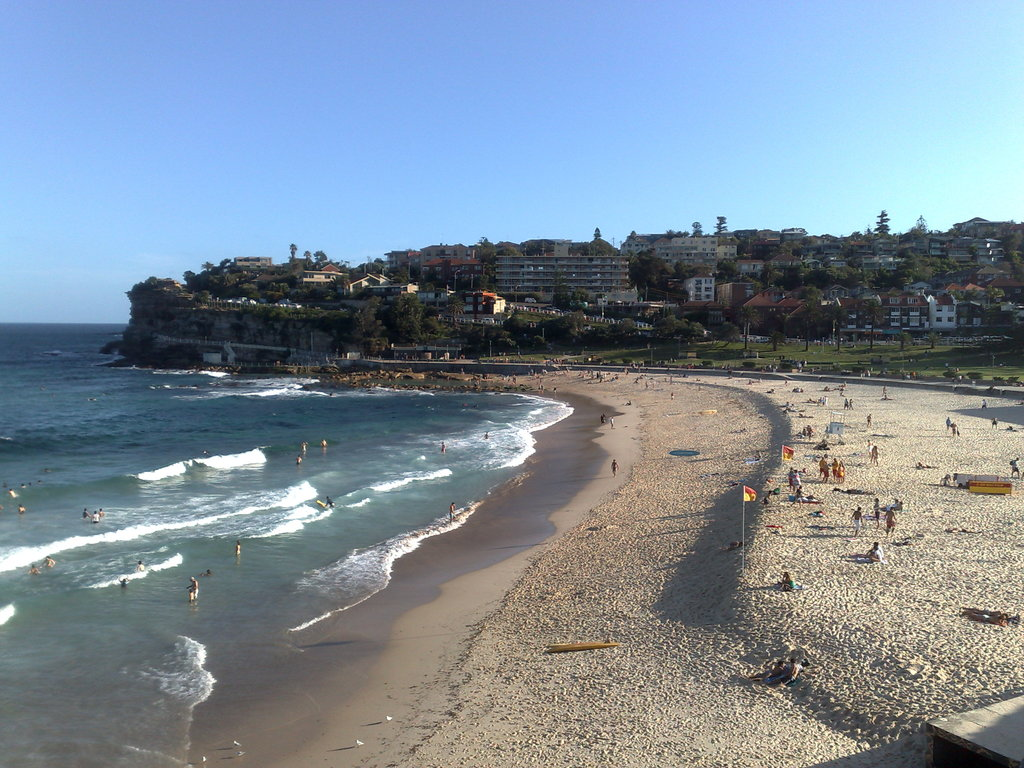Tree: (159, 243, 465, 358), (746, 203, 971, 348), (478, 284, 744, 344), (631, 250, 668, 288), (471, 241, 513, 266)
